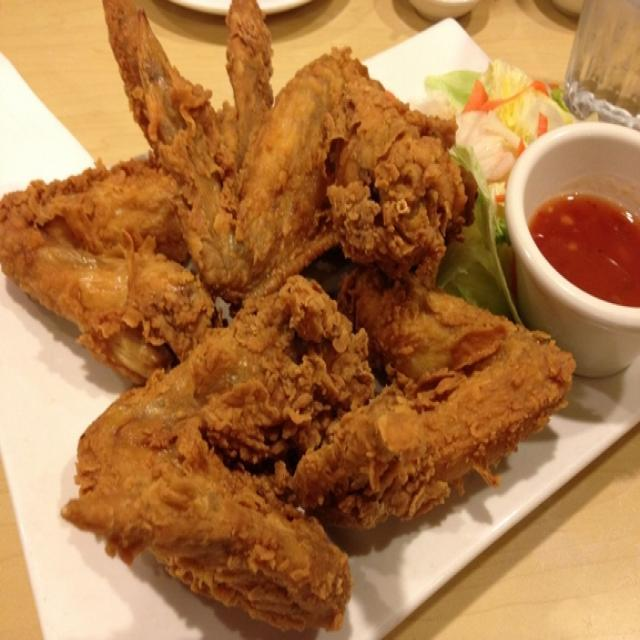Deep fried chicken wing: (23, 61, 567, 619)
